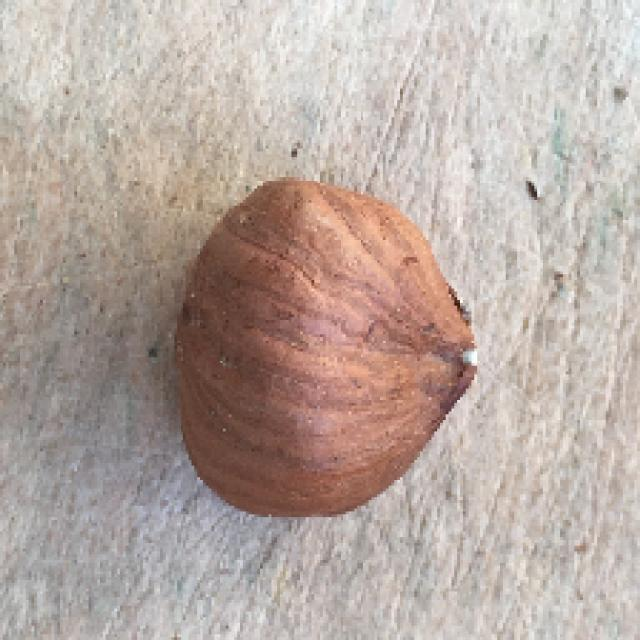hazelnut: (166, 172, 492, 526)
